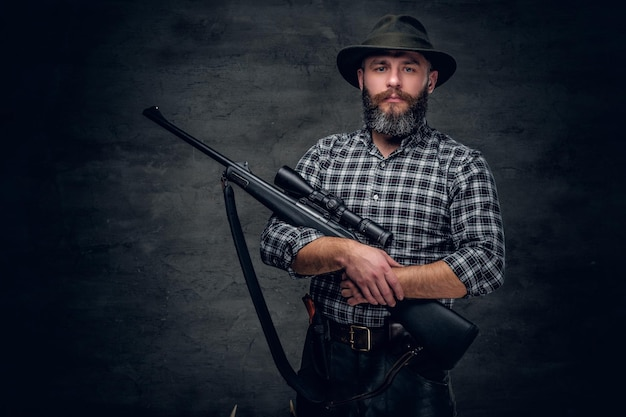gun: (144, 105, 481, 374)
